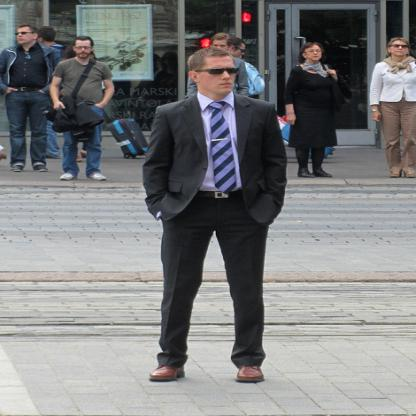backpack: (42, 57, 99, 132)
handbag: (41, 57, 96, 123), (331, 77, 346, 114), (324, 64, 329, 70)
suitcase: (103, 109, 148, 159), (282, 123, 336, 158)
